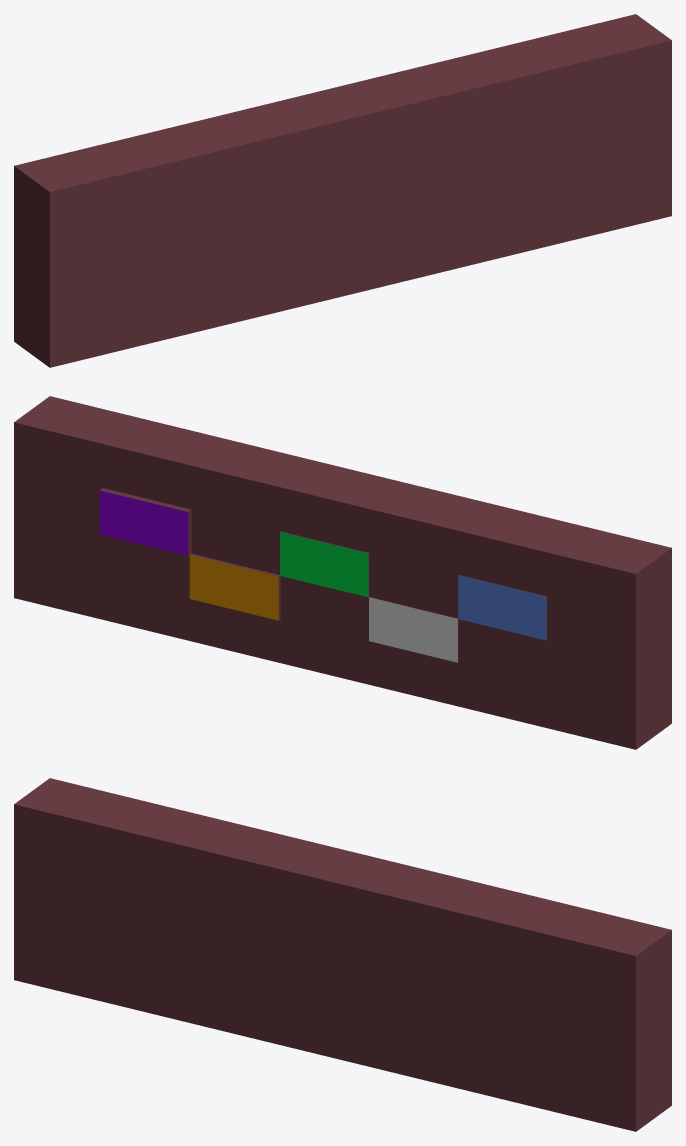
Rendered from WallNonStatic_1.fbx.
3 views of the same model, one above another, from view 1: azimuth 30°, elevation 25°; view 2: azimuth 150°, elevation 25°; view 3: azimuth 330°, elevation 25° (orthographic).
Parts seen in each view (by area): view 1: WallNonStatic_1; view 2: WallNonStatic_1; view 3: WallNonStatic_1.
Part boxes in pixels (left/top/right/bottom): WallNonStatic_1: left=14, top=14, right=671, bottom=367; WallNonStatic_1: left=14, top=396, right=671, bottom=749; WallNonStatic_1: left=14, top=778, right=671, bottom=1131.
Size of the model in its own units: 1000 by 270 by 109.
